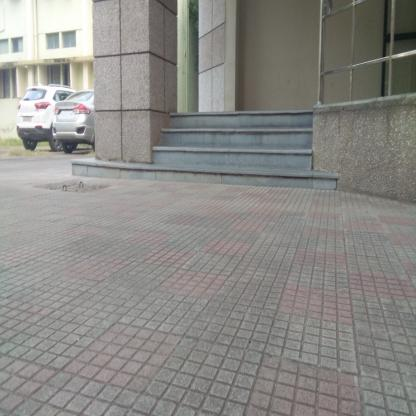stairs: (168, 108, 313, 192)
